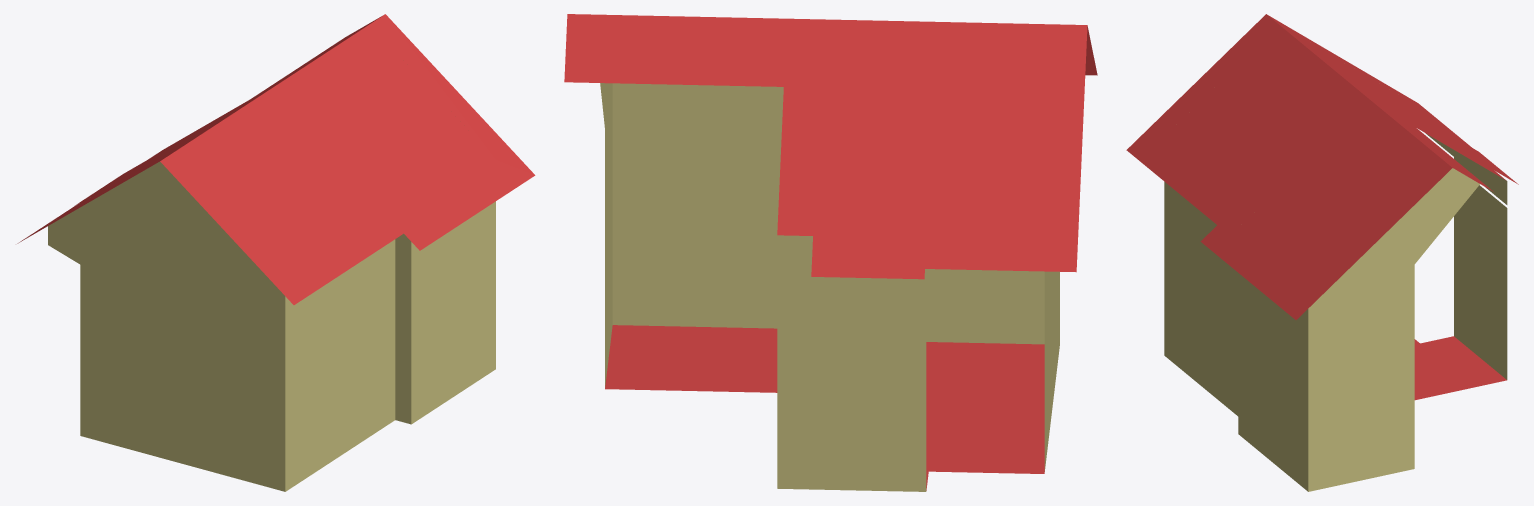
3 renders of one model, left to right at view 1: azimuth 30°, elevation 25°; view 2: azimuth 150°, elevation 25°; view 3: azimuth 270°, elevation 25°, orthographic. The views are drawn at different scales.
Size of the model in its own units: 18.53 by 13.95 by 11.98.
